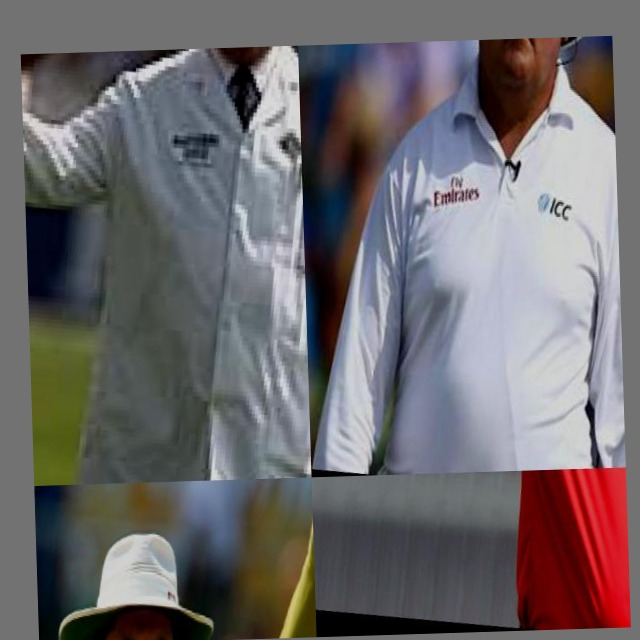No_Action: (298, 36, 626, 477)
No_Ball: (312, 467, 631, 637)
Six: (34, 477, 317, 640)
Wide: (21, 46, 312, 486)
